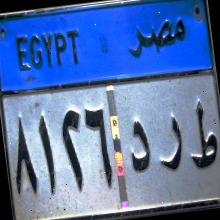1: (35, 107, 64, 200)
2: (57, 105, 90, 196)
6: (82, 96, 118, 190)
8: (5, 108, 42, 198)
Taa: (181, 93, 220, 172)
daal: (122, 108, 154, 178)
raa: (152, 108, 186, 174)
